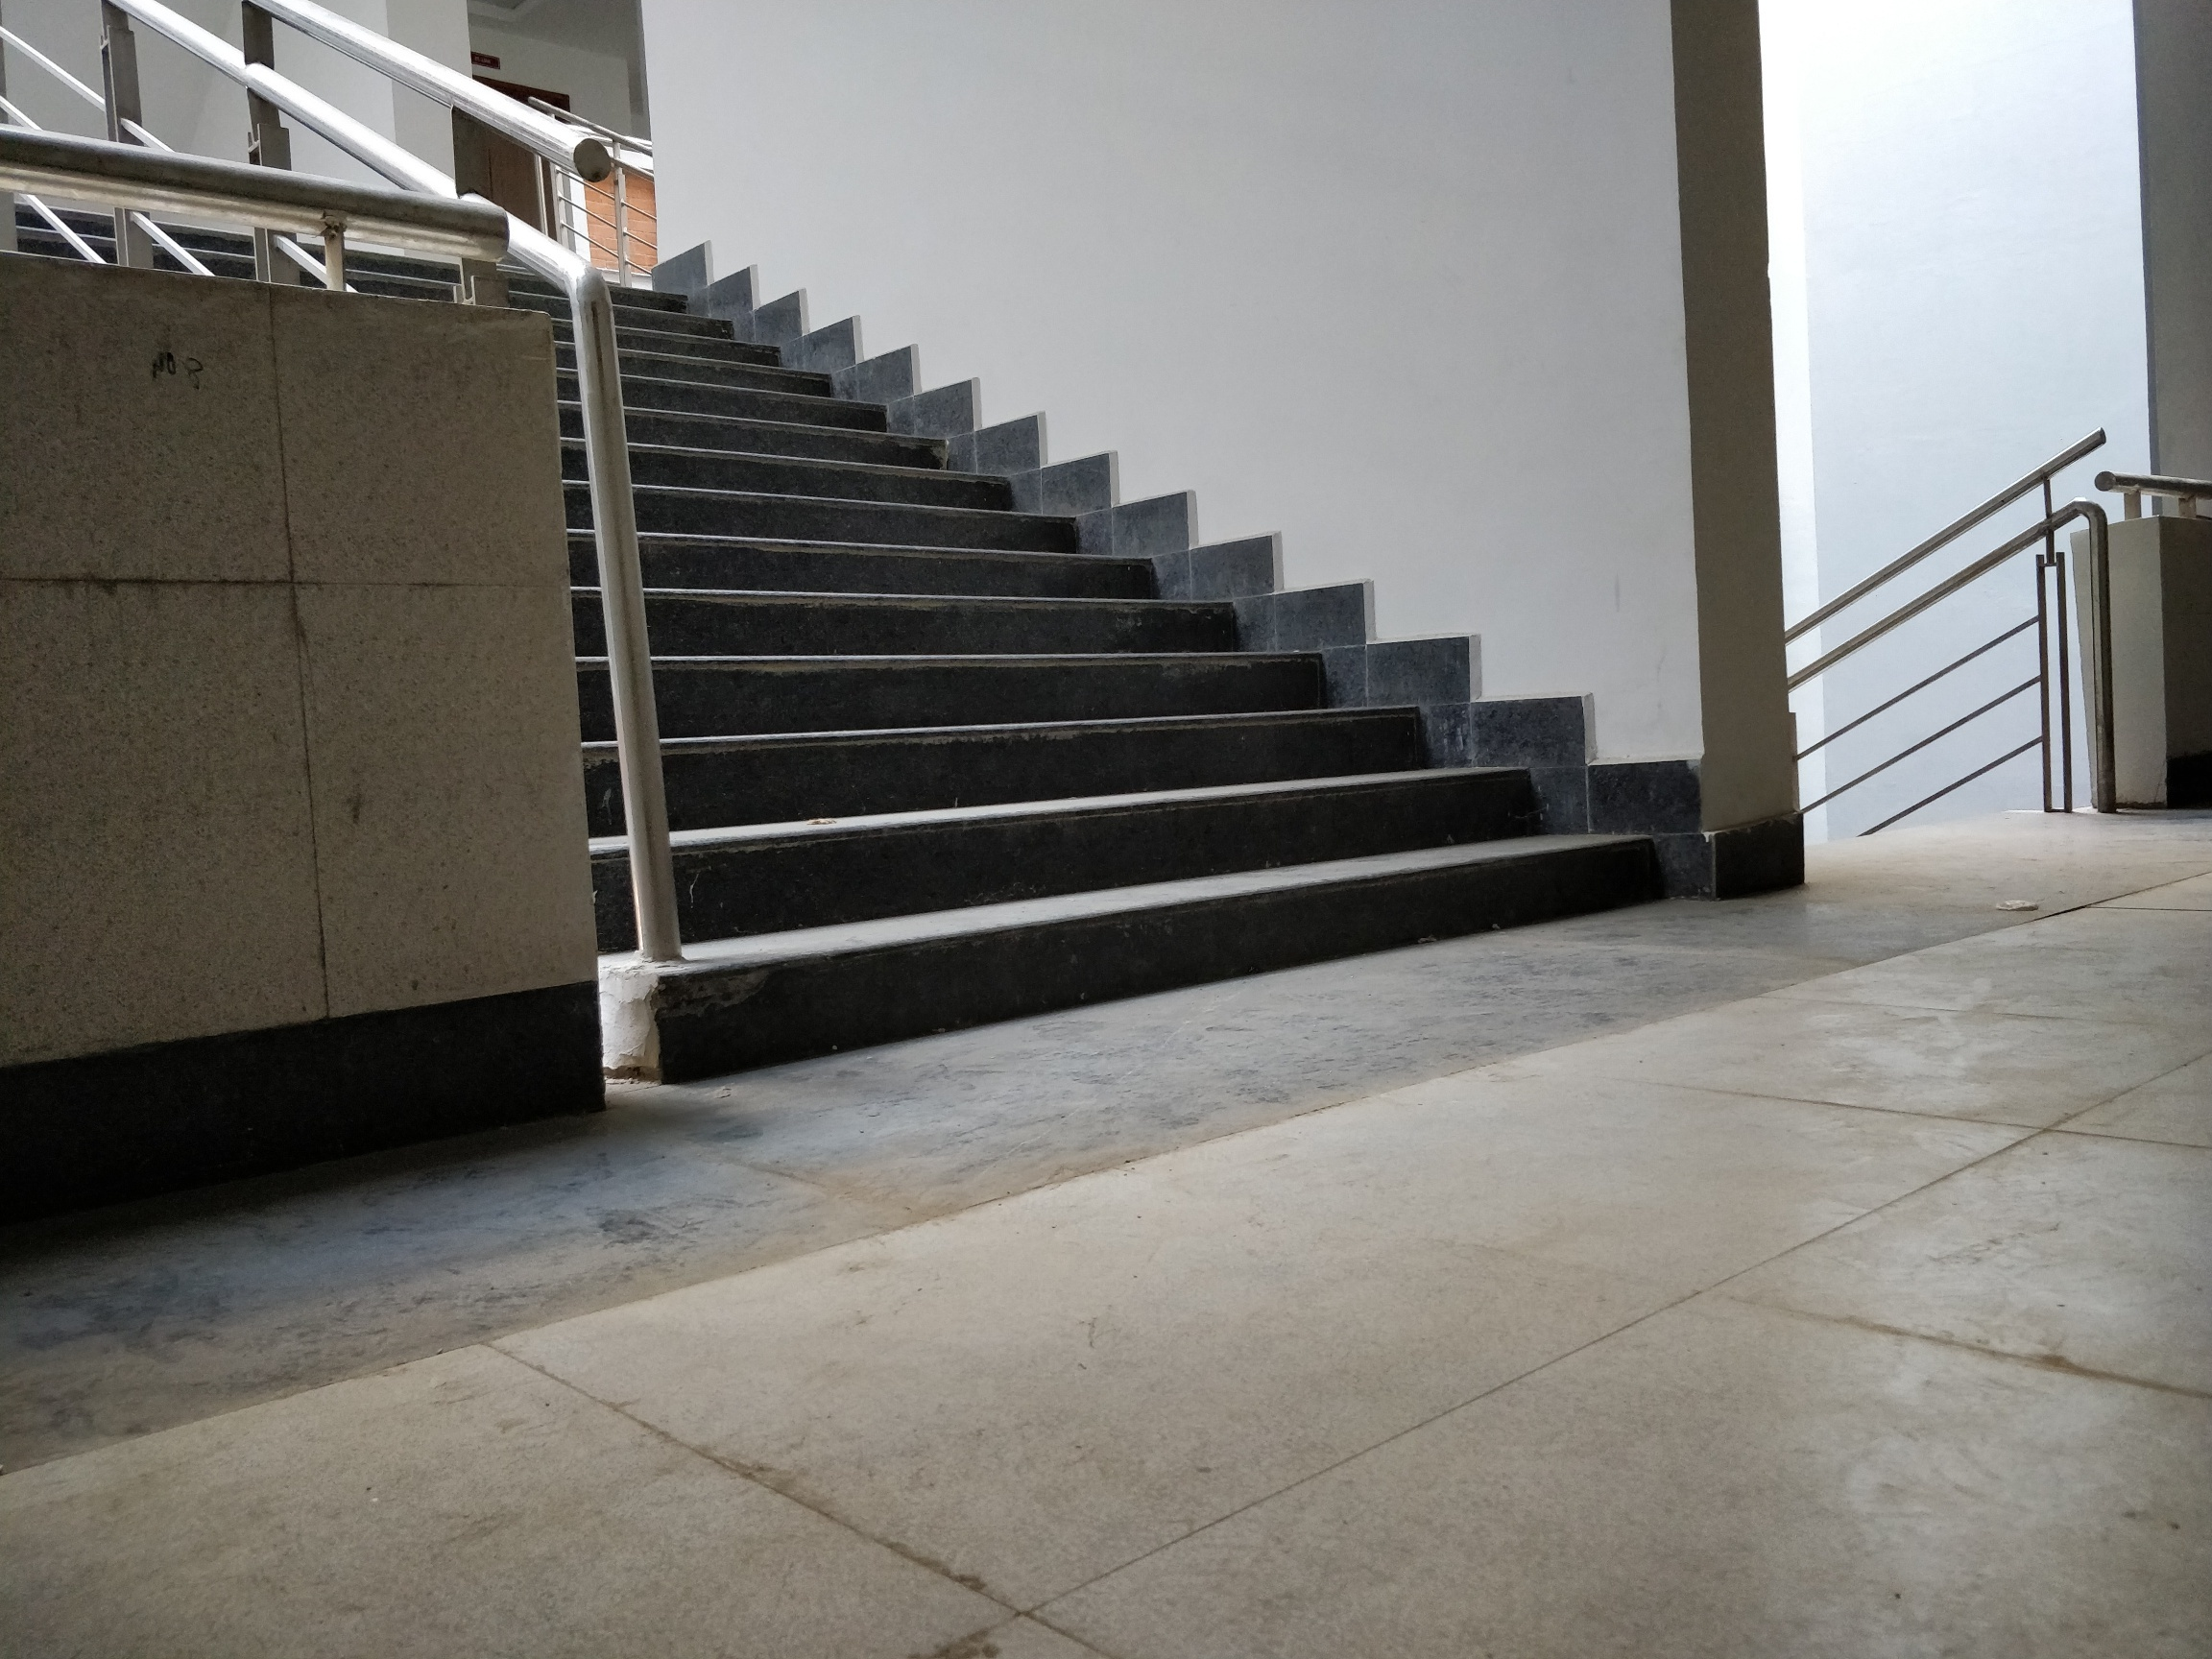stairs_up: (550, 167, 1721, 1073)
